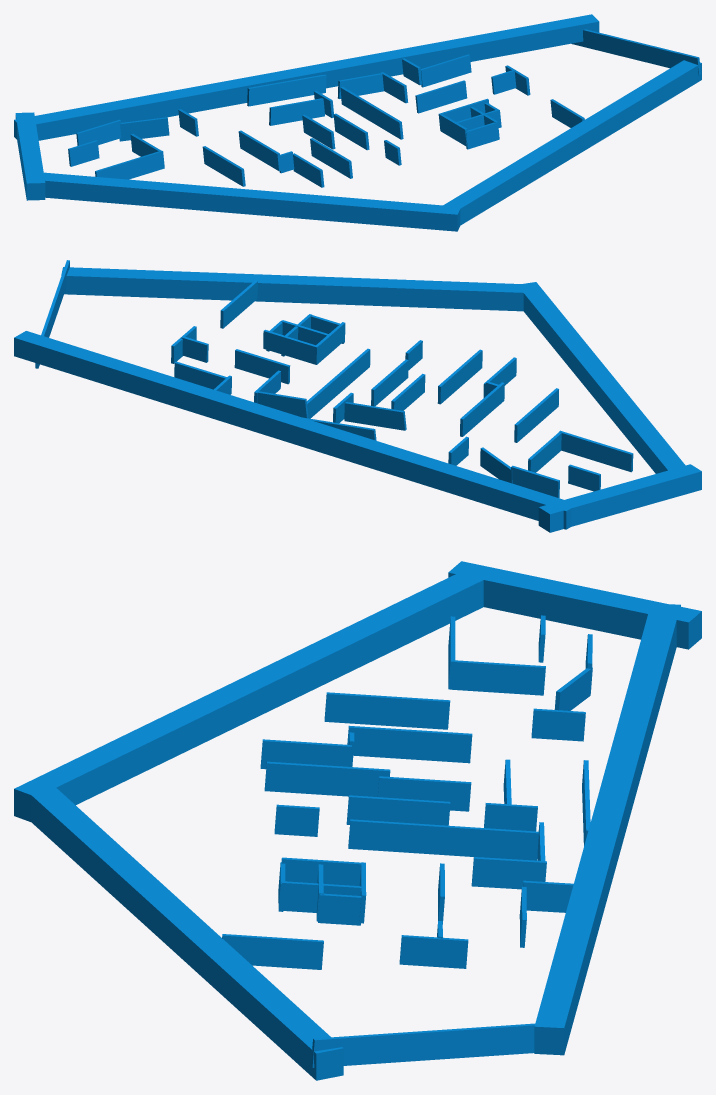
File: Map.fbx
3 renders of one model, top to bottom at view 1: azimuth 30°, elevation 25°; view 2: azimuth 150°, elevation 25°; view 3: azimuth 270°, elevation 25°, orthographic. The views are drawn at different scales.
Parts seen in each view (by area): view 1: pCube3, pCube1, pCube2, pCube6, pCube4, pCube9, pCube5, pCube31, pCube8, pCube12, pCube13, pCube35 (+19 smaller); view 2: pCube3, pCube2, pCube1, pCube4, pCube31, pCube5, pCube8, pCube18, pCube12, pCube25, pCube28, pCube30 (+15 smaller); view 3: pCube1, pCube3, pCube2, pCube4, pCube6, pCube5, pCube30, pCube28, pCube25, pCube34, pCube10, pCube7 (+12 smaller).
Boxes of the visible parts, x1,y1,x2,y2 form: pCube3: (14, 14, 599, 140); pCube1: (30, 171, 460, 231); pCube2: (439, 60, 701, 225); pCube6: (571, 29, 700, 75); pCube4: (15, 112, 45, 200); pCube9: (247, 74, 326, 106); pCube5: (340, 86, 403, 139); pCube31: (95, 150, 164, 179); pCube8: (269, 98, 324, 125); pCube12: (415, 80, 467, 113); pCube13: (420, 54, 471, 87); pCube35: (119, 117, 169, 141); pCube3: (14, 331, 576, 529); pCube2: (61, 267, 537, 311); pCube1: (517, 282, 689, 474); pCube4: (538, 464, 701, 532); pCube31: (559, 430, 633, 472); pCube5: (307, 348, 370, 418); pCube8: (344, 402, 406, 430); pCube18: (263, 329, 318, 364); pCube12: (234, 349, 290, 384); pCube25: (437, 349, 482, 404); pCube28: (460, 382, 504, 436); pCube30: (514, 388, 558, 442); pCube1: (14, 566, 494, 822); pCube3: (534, 603, 680, 1055); pCube2: (31, 788, 343, 1080); pCube4: (448, 561, 701, 649); pCube6: (311, 1023, 534, 1067); pCube5: (348, 819, 538, 860); pCube30: (324, 692, 450, 729); pCube28: (347, 725, 472, 763); pCube25: (264, 761, 390, 796); pCube34: (452, 660, 545, 695); pCube10: (222, 934, 323, 969); pCube7: (346, 795, 450, 825).
Size of the model in its own units: 38.84 by 1.8 by 22.93.
